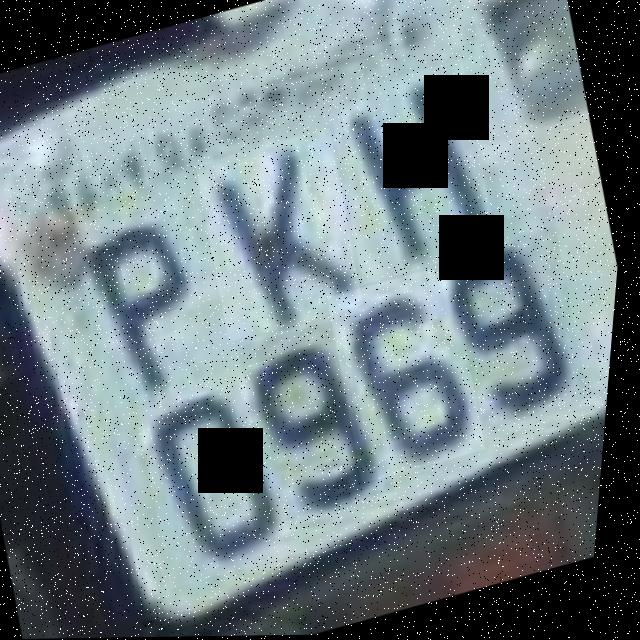0: (129, 359, 327, 589)
6: (320, 264, 505, 485)
9: (409, 205, 605, 431), (232, 312, 414, 525)
H: (317, 59, 514, 286)
K: (187, 128, 380, 343)
P: (61, 197, 237, 425)
